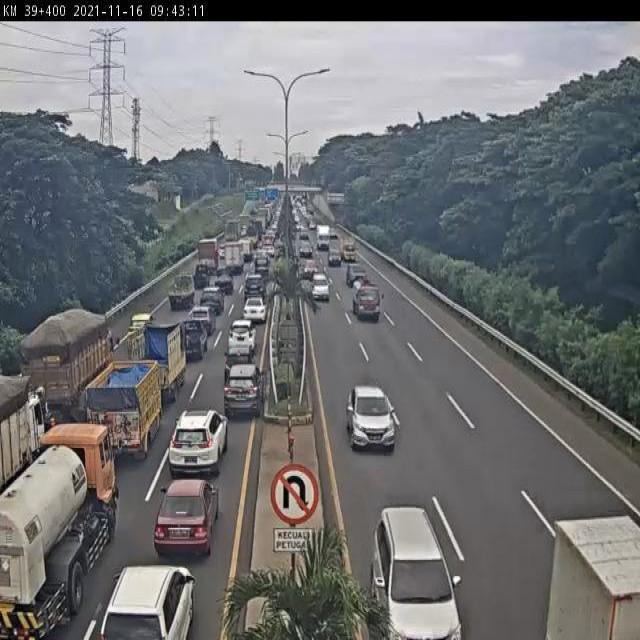car: (372, 505, 461, 640), (98, 565, 194, 640), (156, 478, 220, 558), (171, 409, 229, 476), (346, 384, 397, 449), (225, 365, 266, 420), (223, 347, 255, 382), (182, 319, 208, 361), (227, 318, 257, 351), (128, 315, 154, 344), (241, 295, 268, 321), (243, 272, 266, 299), (310, 274, 331, 302), (199, 288, 223, 312), (190, 308, 213, 332), (192, 263, 211, 288), (214, 267, 234, 289), (346, 263, 365, 285)
small truck: (546, 514, 640, 640), (88, 359, 163, 461), (127, 324, 186, 404), (352, 279, 380, 321), (167, 272, 197, 309)
truck-m-: (0, 421, 117, 640), (19, 309, 117, 419), (0, 378, 45, 498)
